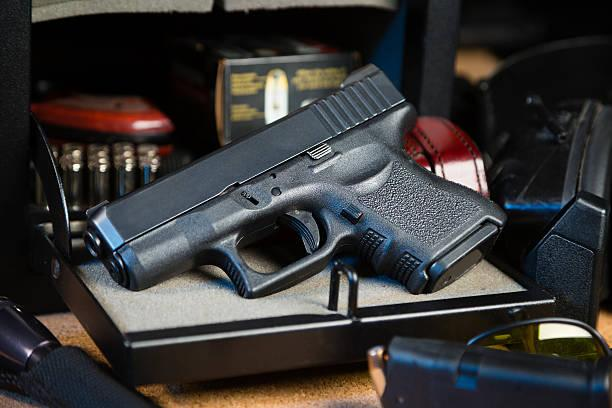weapon: (81, 60, 512, 295)
